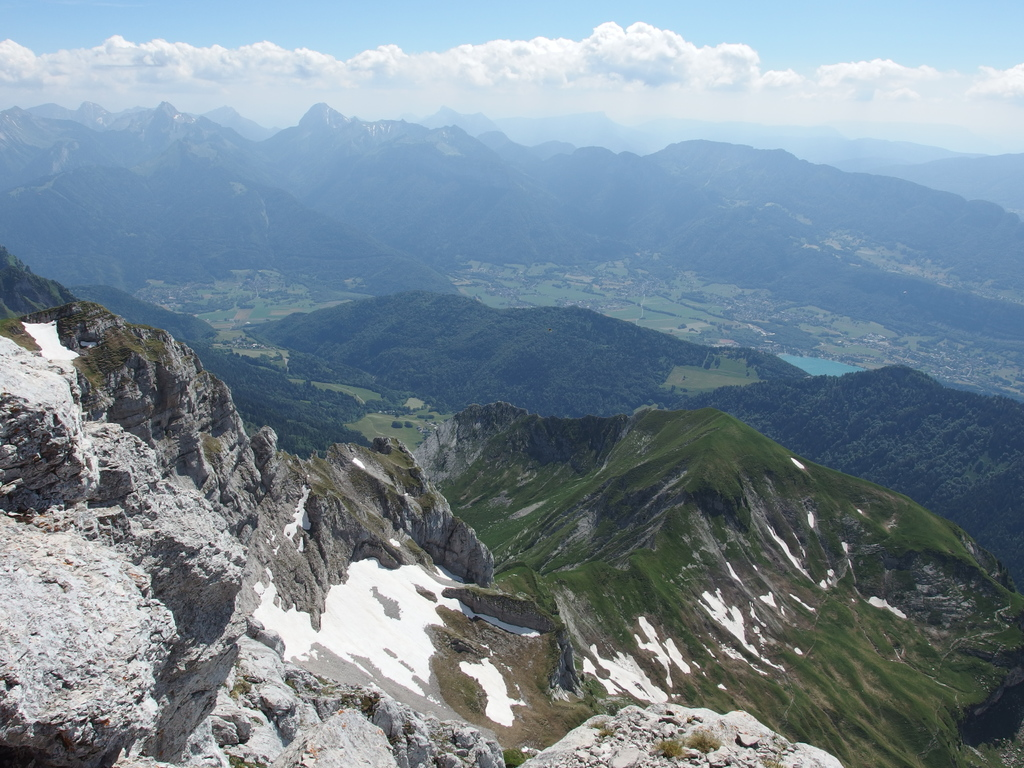Tree: (672, 358, 1023, 604), (244, 282, 735, 440)
